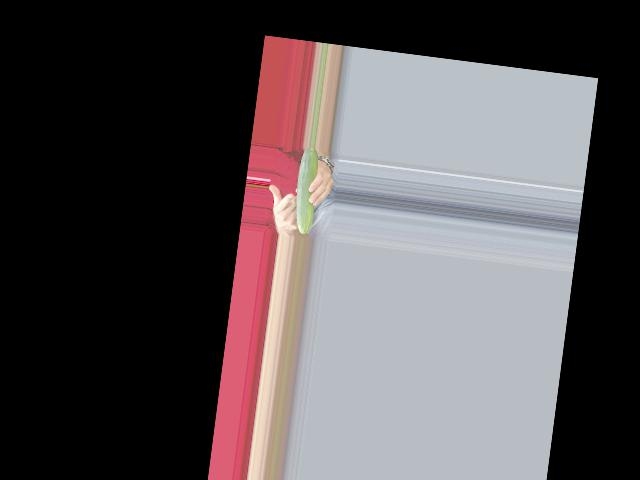cucumber: (291, 146, 322, 234)
